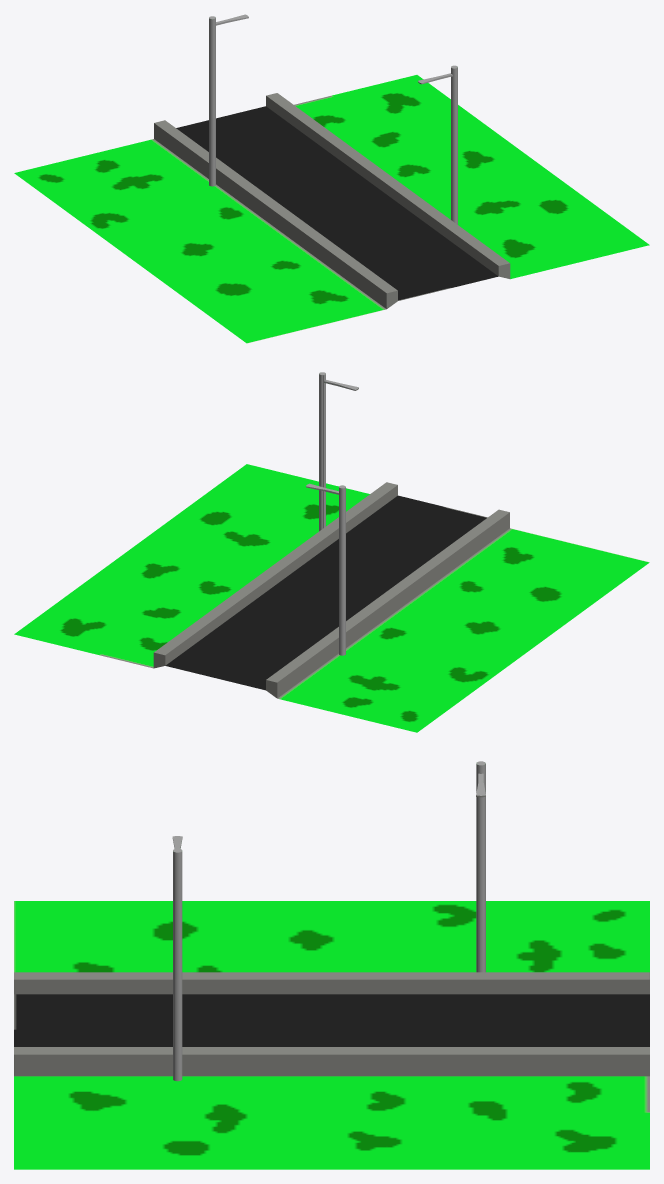
The model's file is EstradaVertical.glb.
3 renders of one model, top to bottom at view 1: azimuth 30°, elevation 25°; view 2: azimuth 150°, elevation 25°; view 3: azimuth 270°, elevation 25°, orthographic. The views are drawn at different scales.
Visible parts, largest first — view 1: Plano; view 2: Plano; view 3: Plano.
Boxes of the visible parts, x1,y1,x2,y2 form: Plano: (14, 14, 649, 343); Plano: (14, 372, 649, 732); Plano: (14, 761, 649, 1169).
Bounding box in the file's own units: 2 × 0.8 × 2.
Materials: 1 (1 with a texture image).
